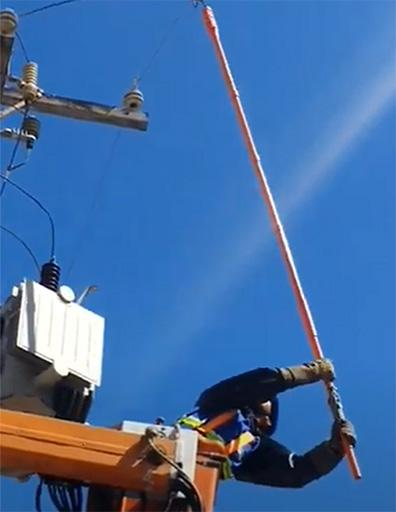Vara_Manobra: (199, 9, 360, 481)
